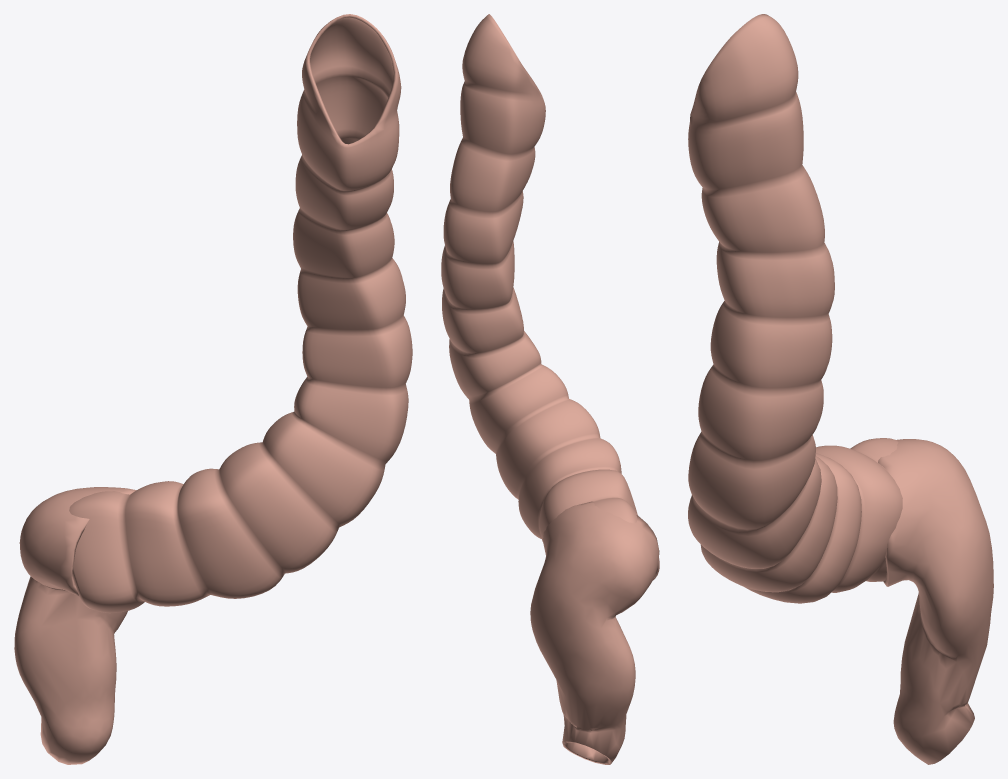
Rendered from lower-bowel.glb.
3 views of the same model, side by side, from view 1: azimuth 30°, elevation 25°; view 2: azimuth 150°, elevation 25°; view 3: azimuth 270°, elevation 25° (orthographic). The views are drawn at different scales.
Parts seen in each view (by area): view 1: VMRA_DESCENDING_SIGMOID_COLON_01, VMRA_RECTUM_ANAL_REGION_01; view 2: VMRA_DESCENDING_SIGMOID_COLON_01, VMRA_RECTUM_ANAL_REGION_01; view 3: VMRA_DESCENDING_SIGMOID_COLON_01, VMRA_RECTUM_ANAL_REGION_01.
Boxes of the visible parts, bbox=[...] form: VMRA_DESCENDING_SIGMOID_COLON_01: bbox=[69, 14, 412, 613]; VMRA_RECTUM_ANAL_REGION_01: bbox=[14, 487, 136, 764]; VMRA_DESCENDING_SIGMOID_COLON_01: bbox=[441, 14, 659, 580]; VMRA_RECTUM_ANAL_REGION_01: bbox=[530, 501, 659, 764]; VMRA_DESCENDING_SIGMOID_COLON_01: bbox=[688, 14, 902, 603]; VMRA_RECTUM_ANAL_REGION_01: bbox=[878, 439, 993, 764].
Bounding box in the file's own units: 0.1405 × 0.3307 × 0.1075.
